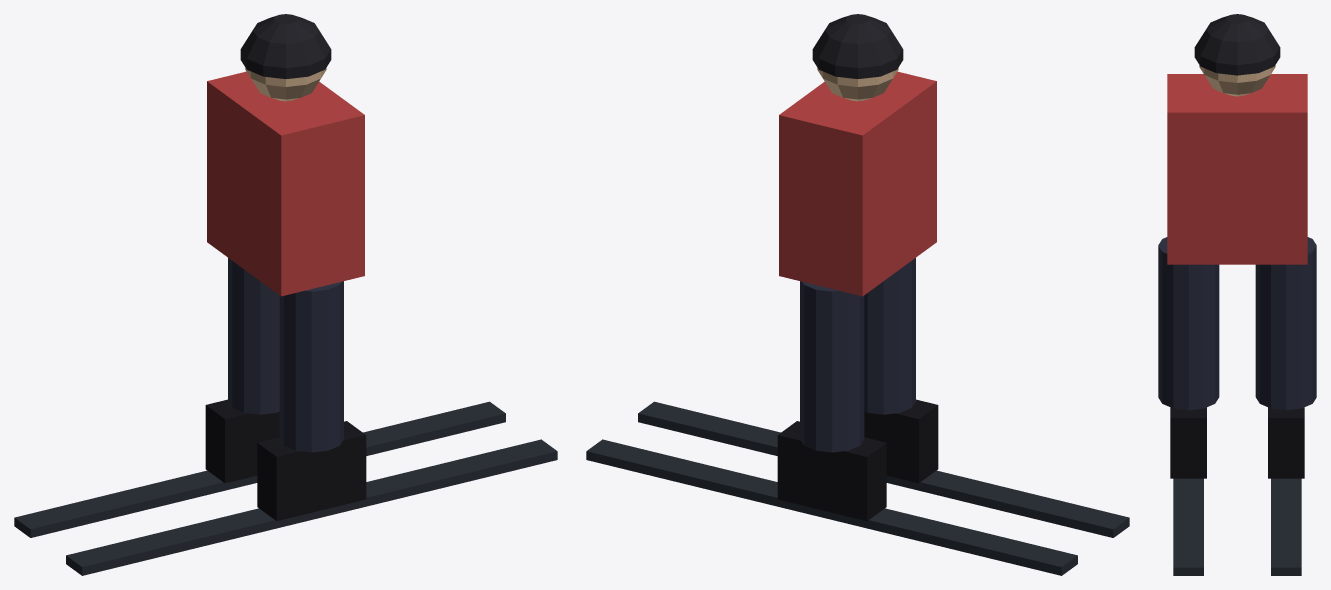
File: skier.obj
3 views of the same model, side by side, from view 1: azimuth 30°, elevation 25°; view 2: azimuth 150°, elevation 25°; view 3: azimuth 270°, elevation 25° (orthographic). The views are drawn at different scales.
Bounding box in the file's own units: 1.7 × 1.62 × 0.52.
